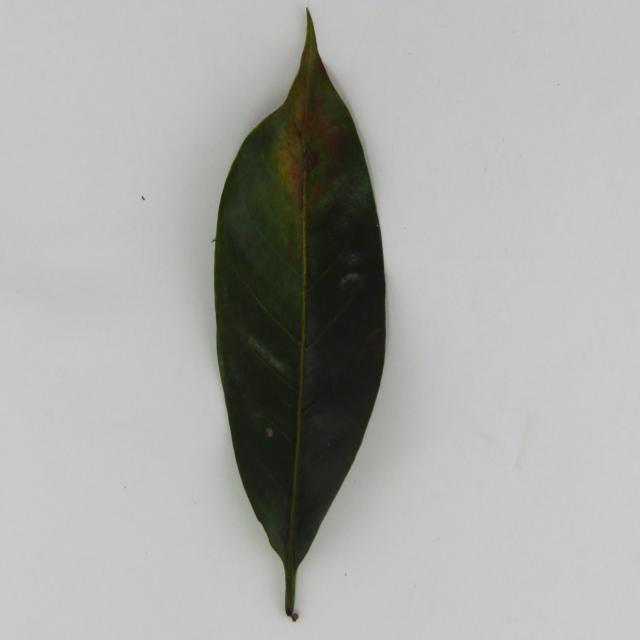DeficienciaNutricional-Fosforo: (214, 12, 385, 620)
